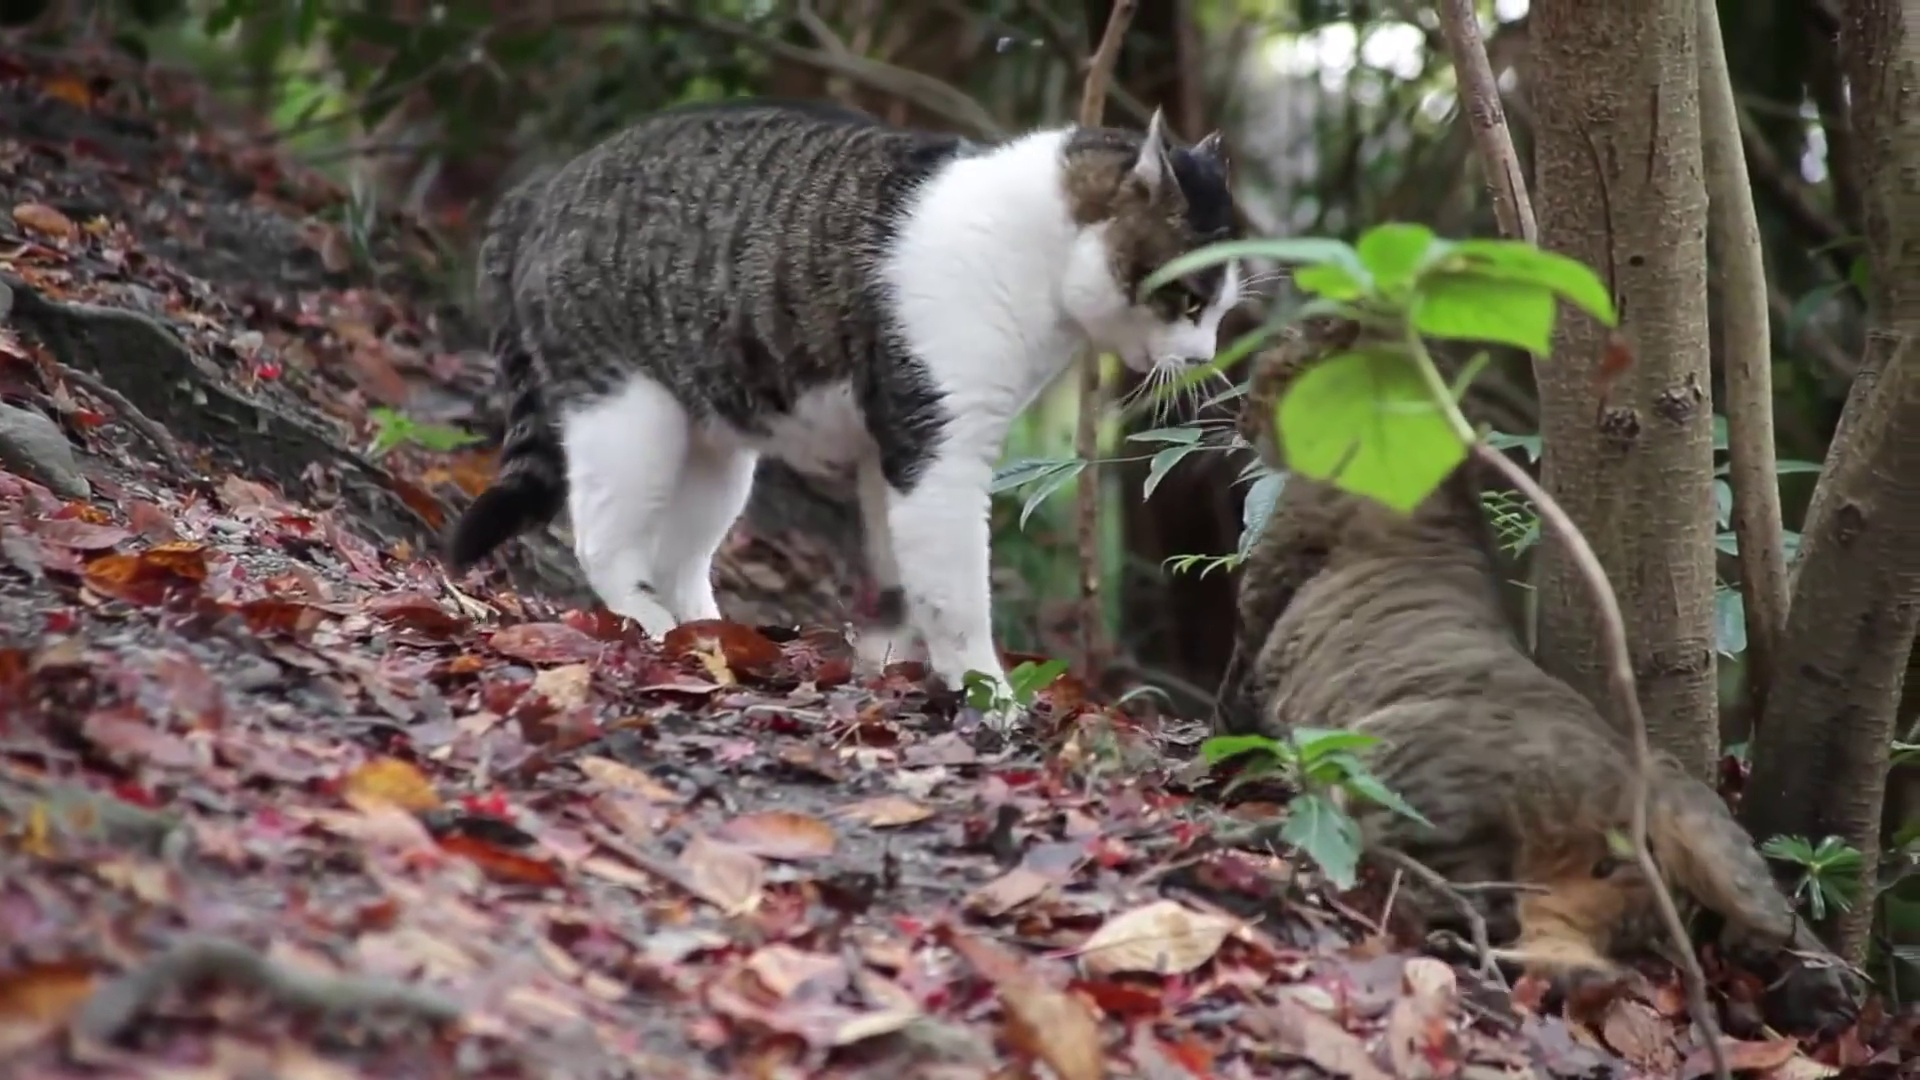black-white: (444, 104, 1245, 732)
pure black: (1208, 295, 1720, 887)
